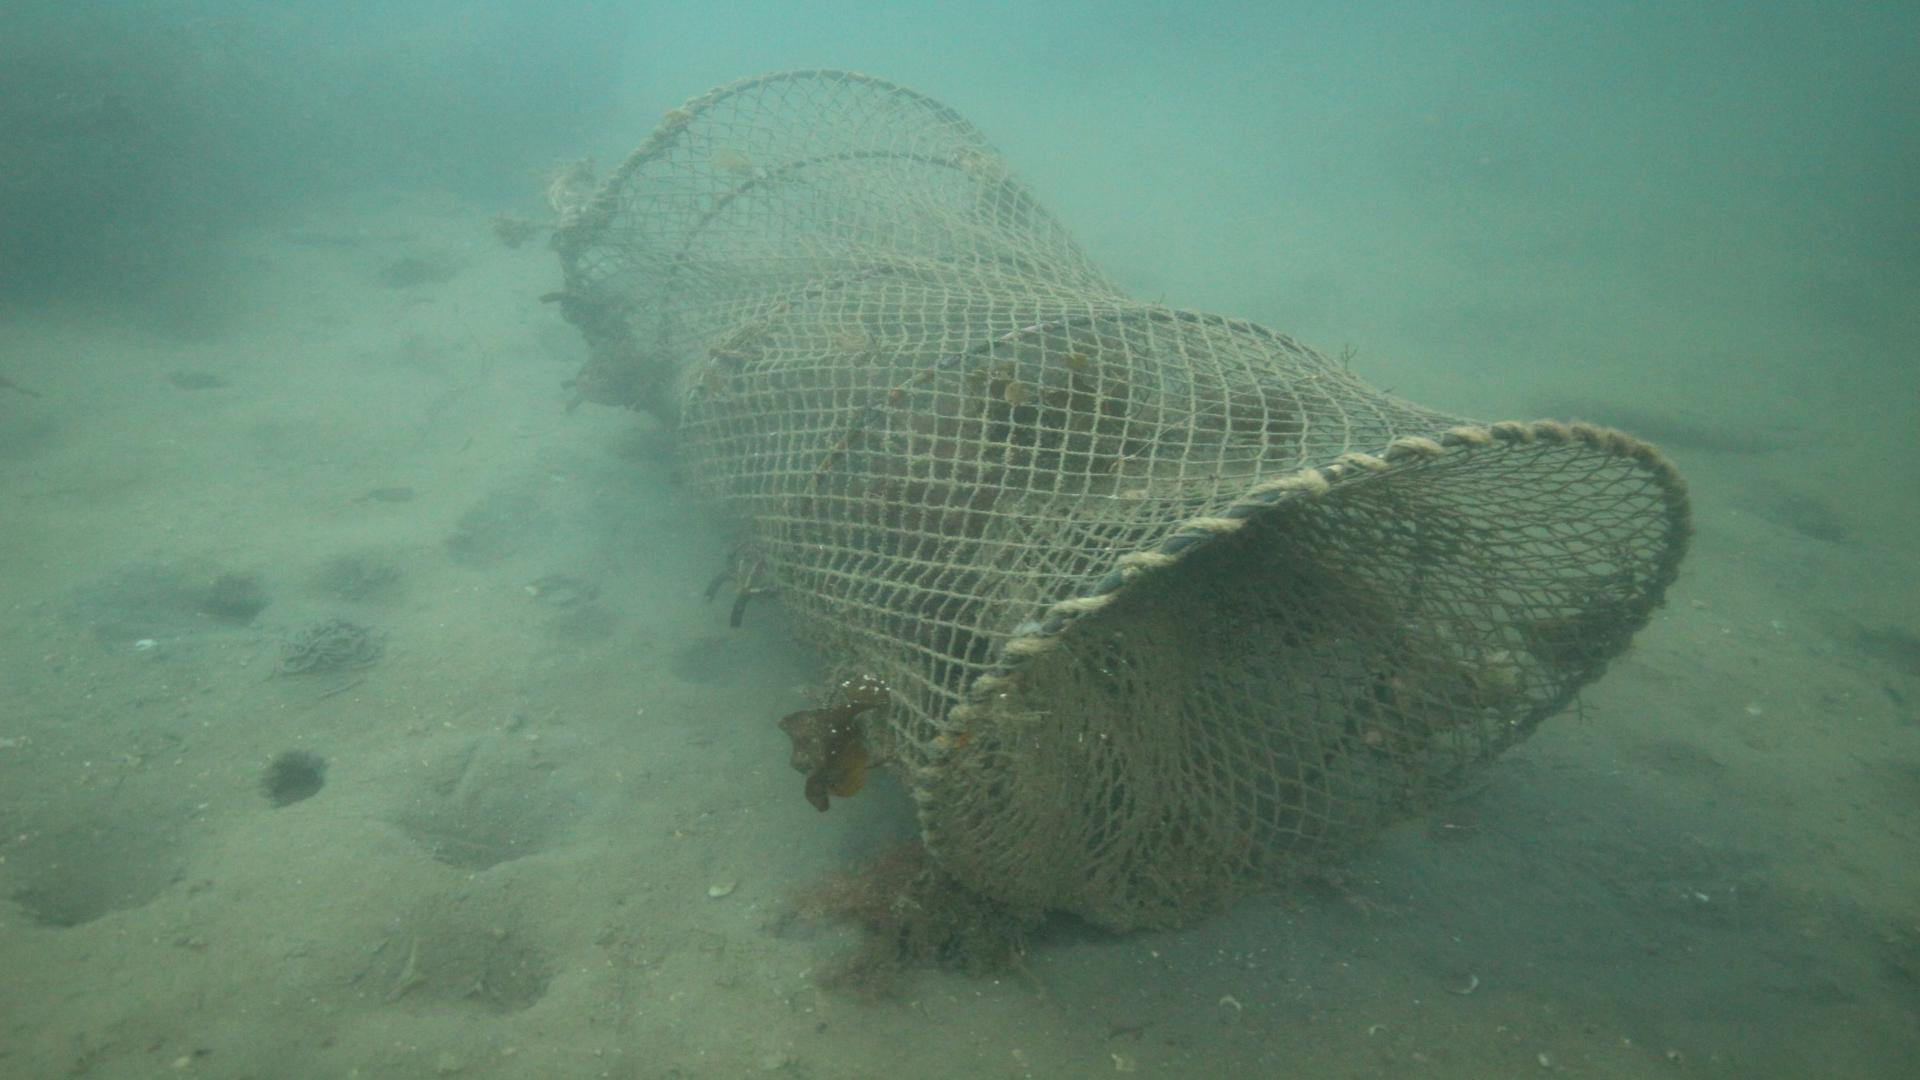spring fish trap: (553, 66, 1693, 936)
